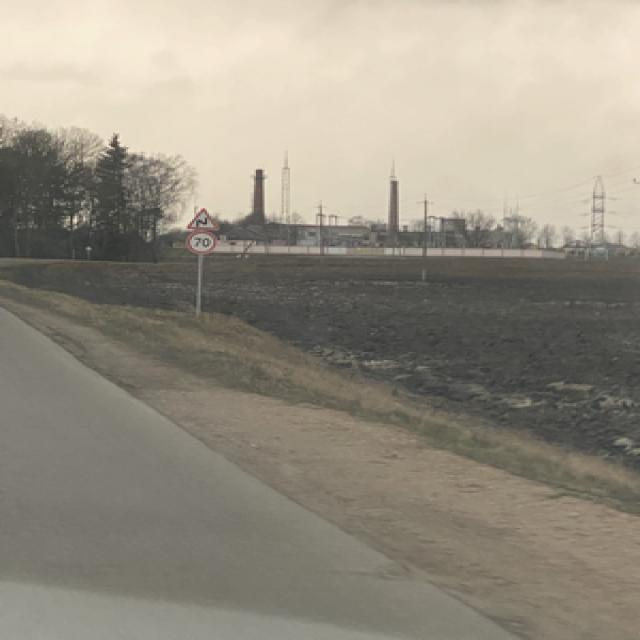speedlimit: (186, 232, 213, 253)
